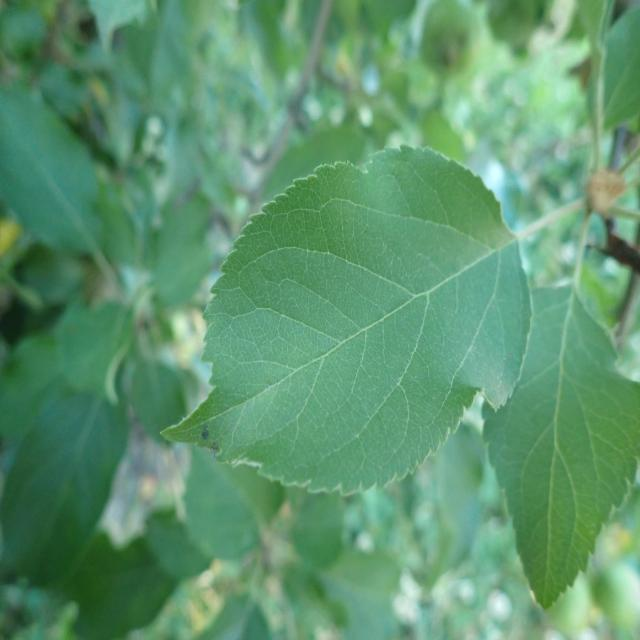healthy: (158, 145, 532, 497), (481, 282, 640, 610)
